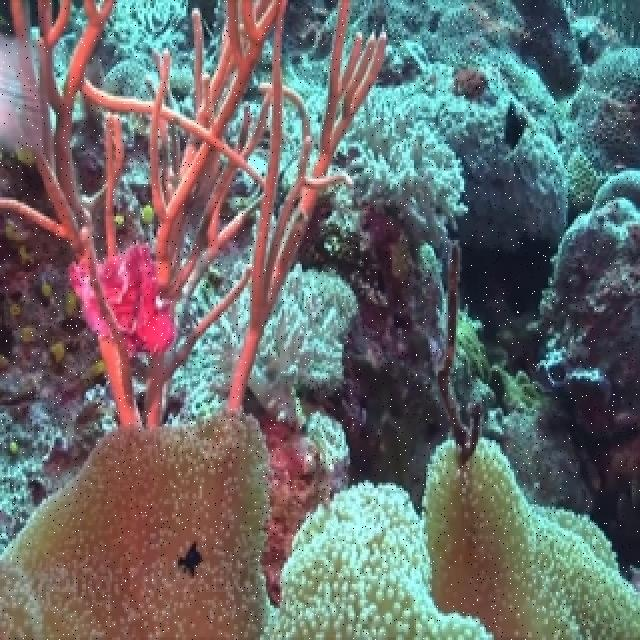reefs: (0, 0, 638, 637), (328, 0, 638, 387), (248, 265, 357, 600)
